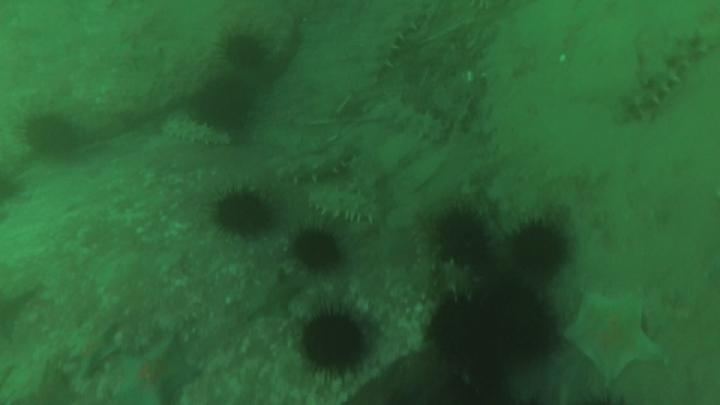echinus: (488, 279, 555, 348), (429, 299, 490, 357), (303, 314, 363, 370), (194, 81, 252, 127), (512, 225, 564, 274), (220, 191, 270, 237), (440, 214, 484, 266), (25, 119, 75, 156), (296, 232, 338, 269), (225, 36, 265, 68)
holothurian: (634, 30, 720, 80), (632, 62, 683, 123), (364, 15, 404, 88), (383, 99, 447, 141), (276, 150, 348, 181), (312, 190, 375, 223), (160, 120, 233, 148)
starfish: (565, 288, 664, 380), (120, 339, 198, 402), (70, 327, 119, 376)
